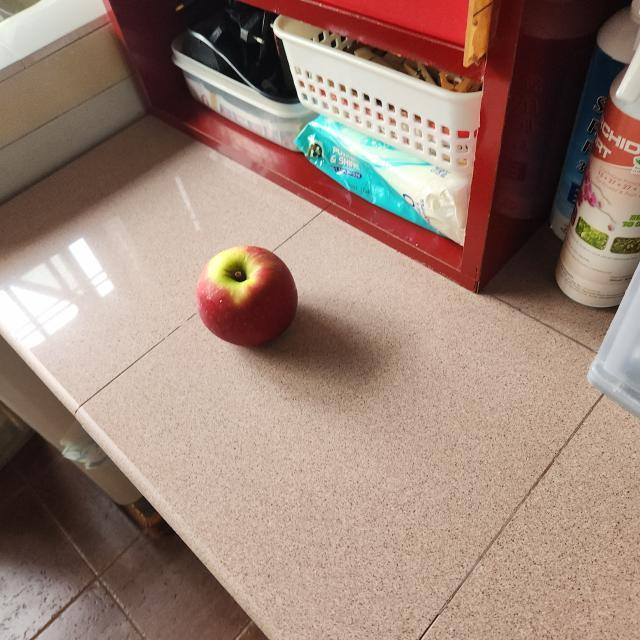apple: (190, 236, 302, 360)
